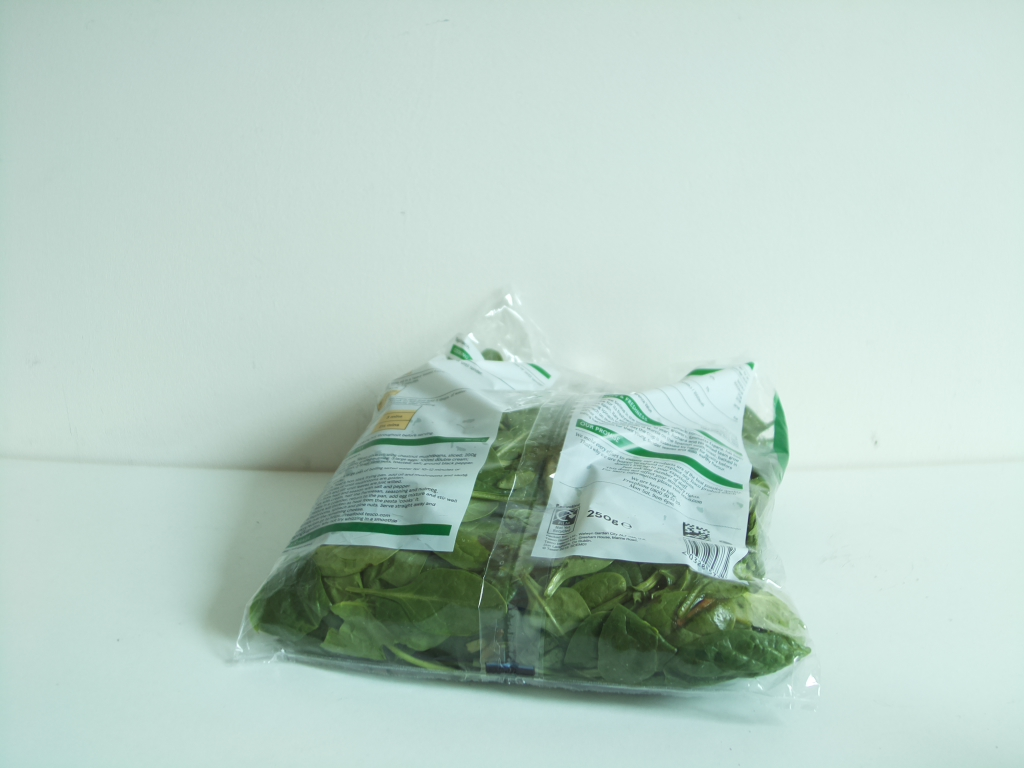salad: (247, 368, 812, 691)
